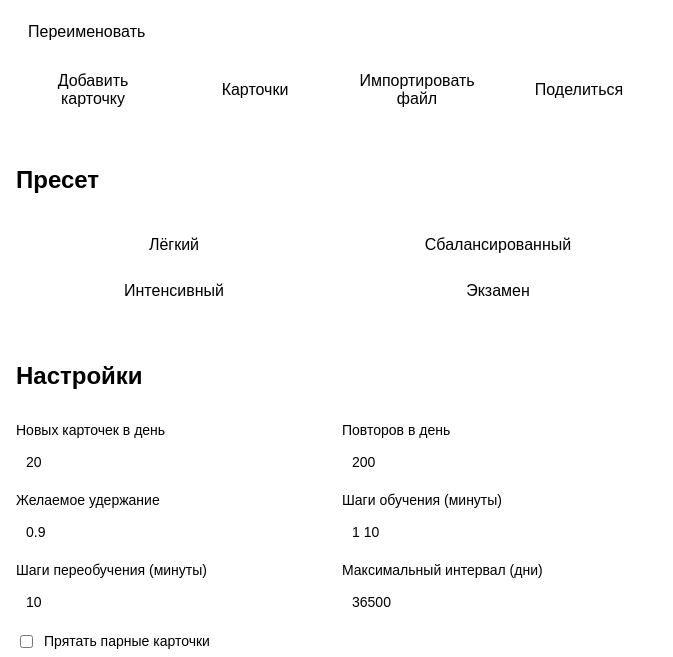
Test case: deck management › shows a settings validation error beside the rejected field
This screenshot has width=673, height=657.
Replace the text in the number field labelled "Желаемое удержание" with "1.5" at {"x": 173, "y": 532}, box [16, 514, 330, 550]
(page scrolled)
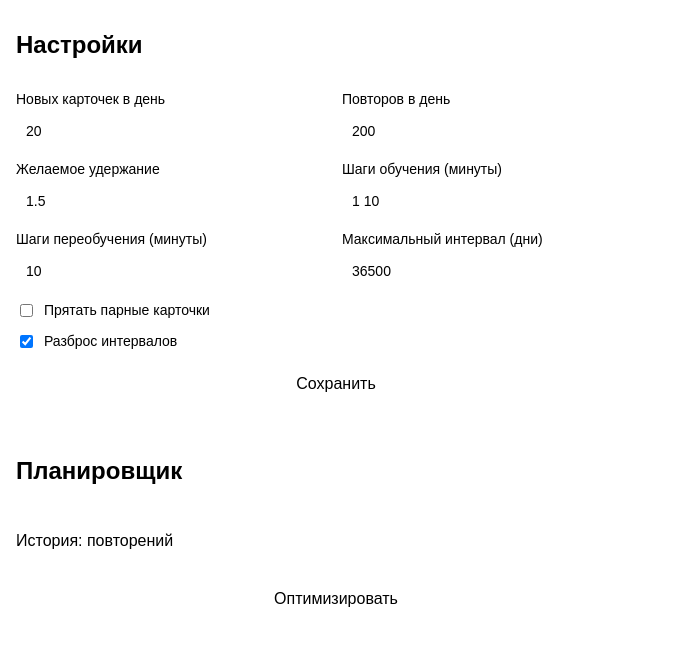
Click the button "Сохранить".
click(336, 384)  # box [16, 363, 656, 405]
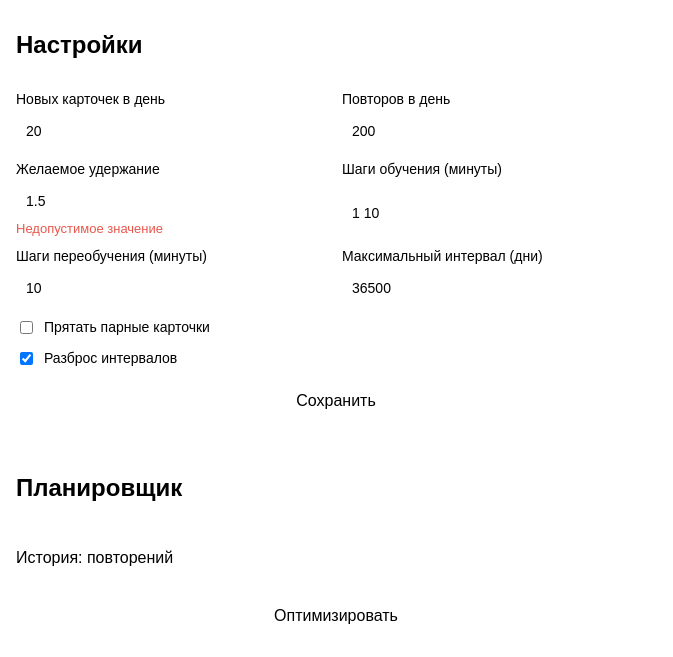
Result: the text "Недопустимое значение" is shown at [16, 221, 163, 236]
